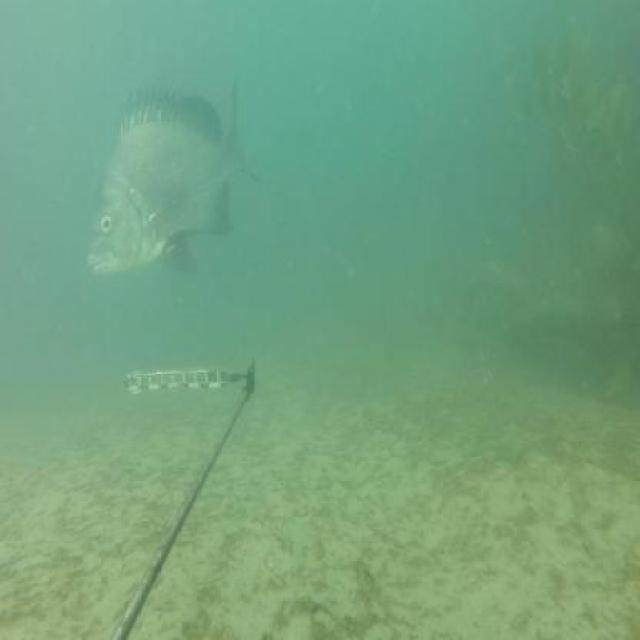acanthopagrus_palmaris: (85, 77, 264, 280)
